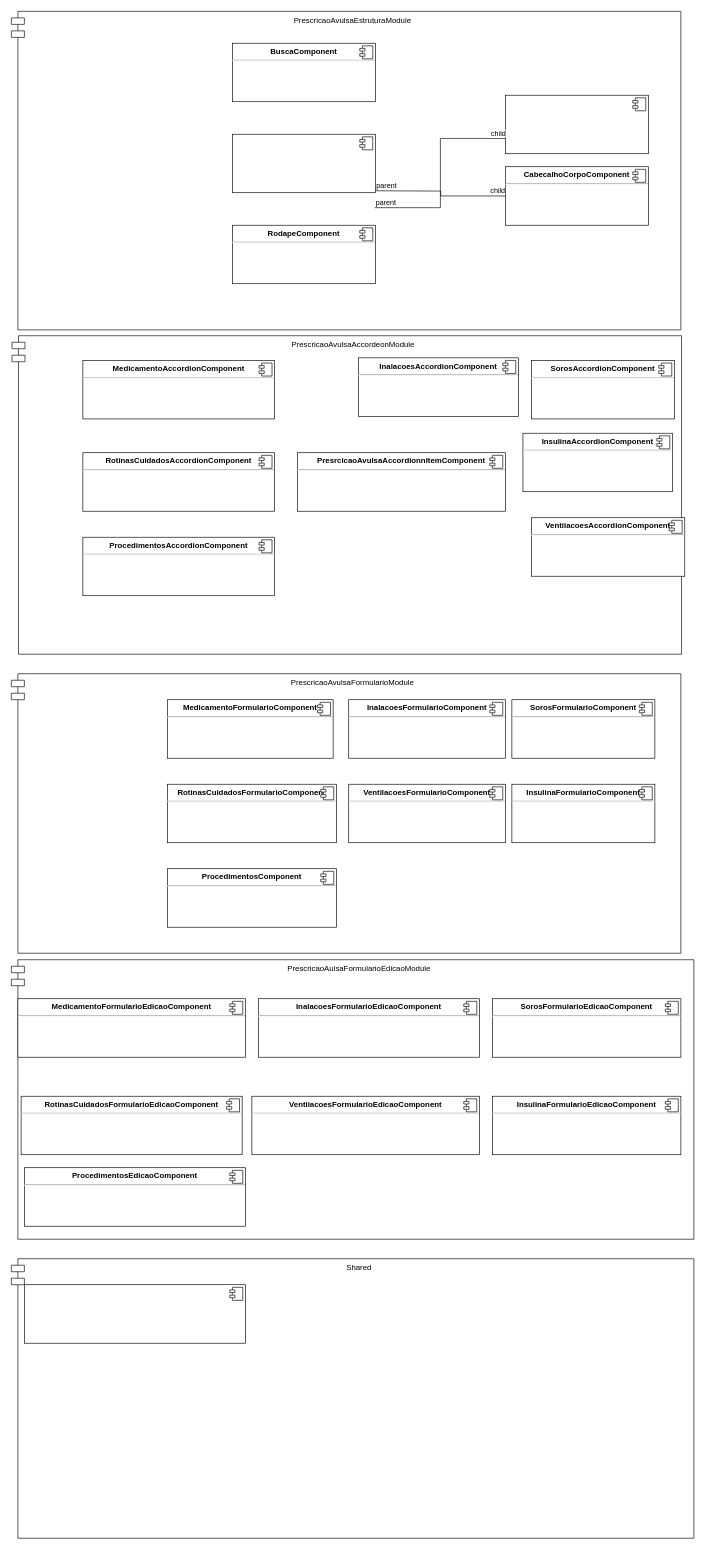
The diagram is 705 pixels wide and 1550 high, and some of its shapes have lost their labels. The shapes that lost their labels are listed below. From the top down, each one's centre as x and y in pixels, then its label:
[576,124]: CabecalhoTituloComponent
[303,163]: CabecalhoComponent
[134,1313]: ButtonPlus
